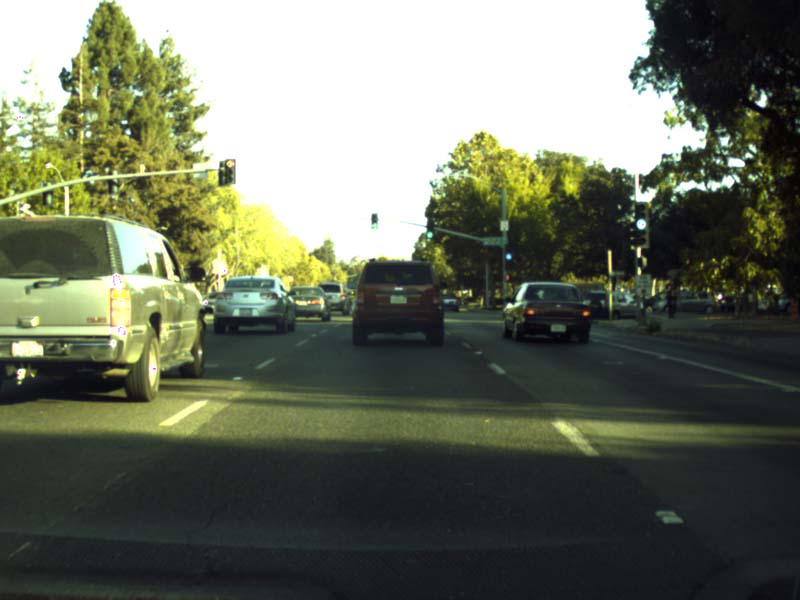Green: (634, 205, 646, 233), (426, 221, 434, 240), (504, 245, 512, 261), (370, 213, 378, 229)
Red: (225, 160, 235, 184)
